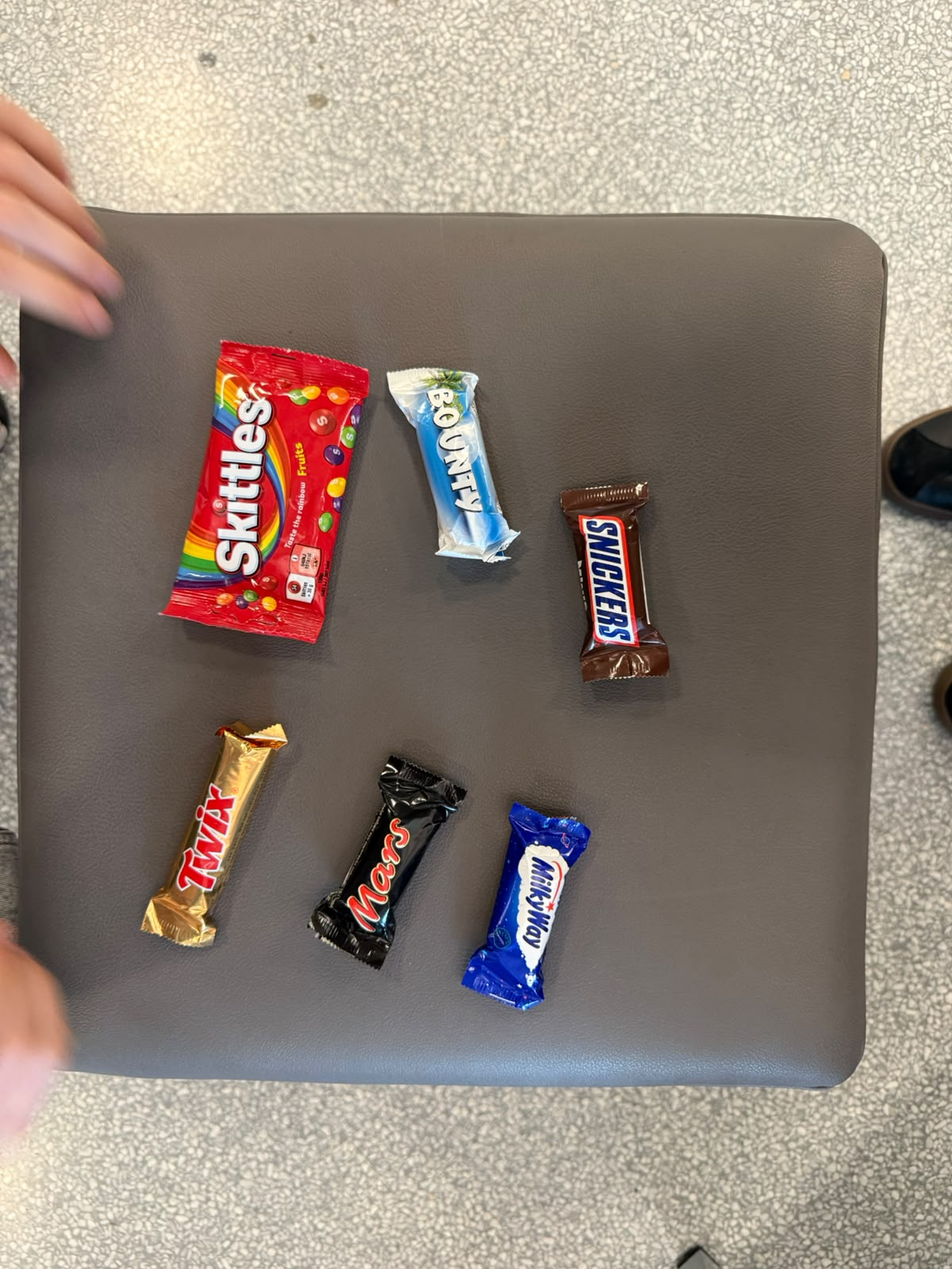Bounty: (381, 371, 488, 594)
Mars: (405, 739, 477, 960)
MilkyWay: (498, 783, 621, 1006)
Skittles: (204, 307, 383, 651)
Snickers: (563, 478, 670, 695)
Twix: (216, 702, 297, 961)
